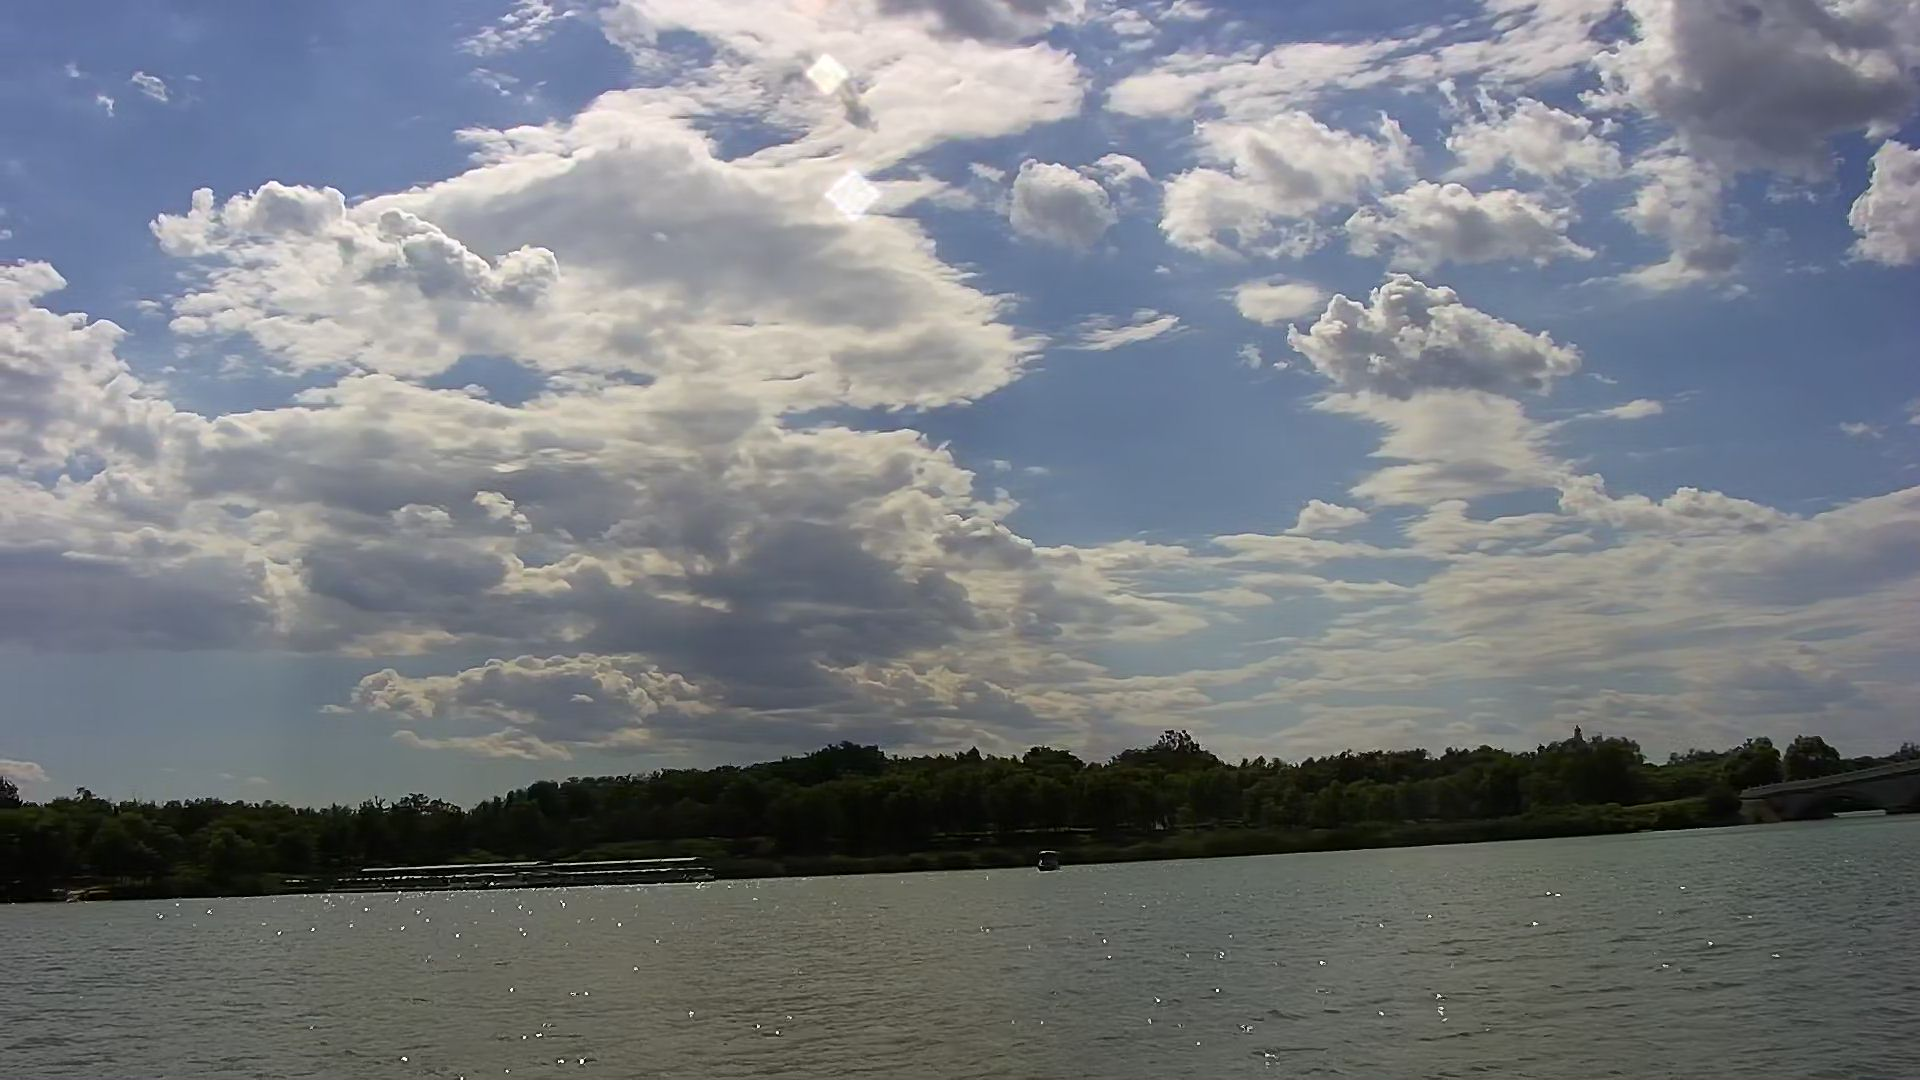boat: (1029, 843, 1069, 876)
bridge: (1731, 745, 1920, 831)
harbor: (353, 847, 705, 895)
